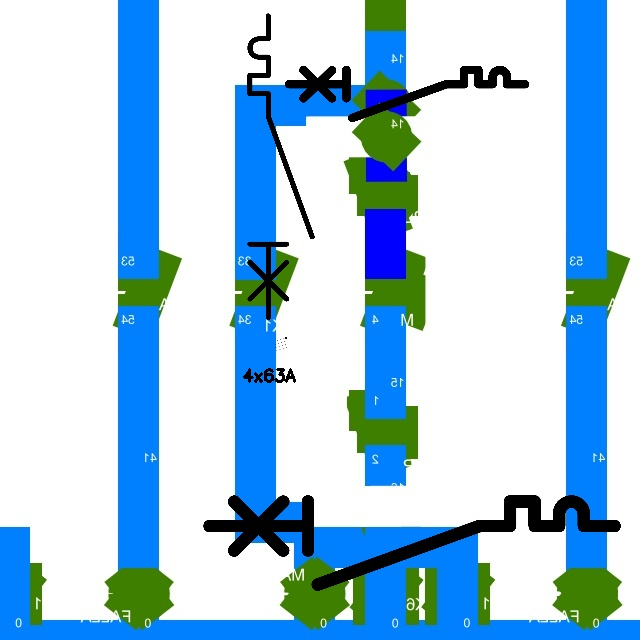interruptor_termomagnetico: (199, 491, 625, 595), (242, 8, 319, 325), (283, 64, 531, 124)
